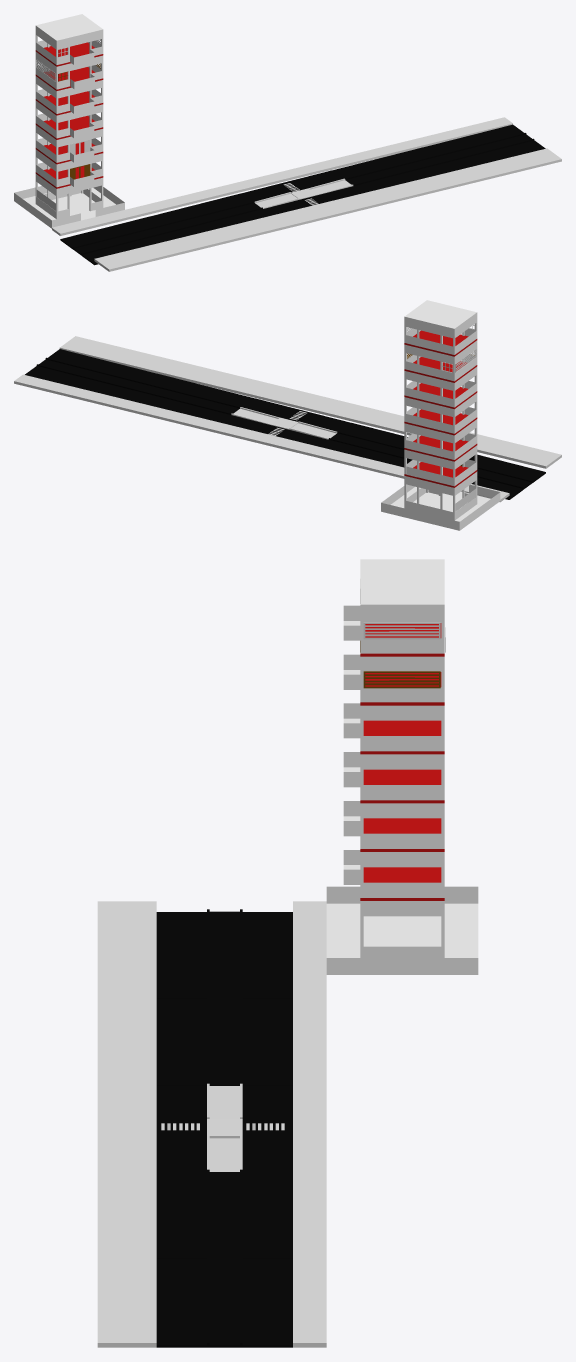
Rendered from building type blacony wind 1.fbx.
The picture shows the model from 3 angles, top to bottom: view 1: azimuth 30°, elevation 25°; view 2: azimuth 150°, elevation 25°; view 3: azimuth 270°, elevation 25°; orthographic projection. The views are drawn at different scales.
Visible parts, largest first — view 1: road, BUILDING_TYPE_X, door; view 2: road, BUILDING_TYPE_X; view 3: road, BUILDING_TYPE_X, windows, windows_Instance_1.
Boxes of the visible parts, x1,y1,x2,y2 form: road: (36, 117, 561, 271); BUILDING_TYPE_X: (14, 14, 124, 228); door: (70, 139, 90, 179); road: (14, 336, 561, 511); BUILDING_TYPE_X: (381, 300, 500, 530); road: (97, 901, 326, 1347); BUILDING_TYPE_X: (326, 559, 478, 974); windows: (363, 671, 440, 688); windows_Instance_1: (363, 622, 440, 639).
Bounding box in the file's own units: 6207 × 2410 × 2260.
